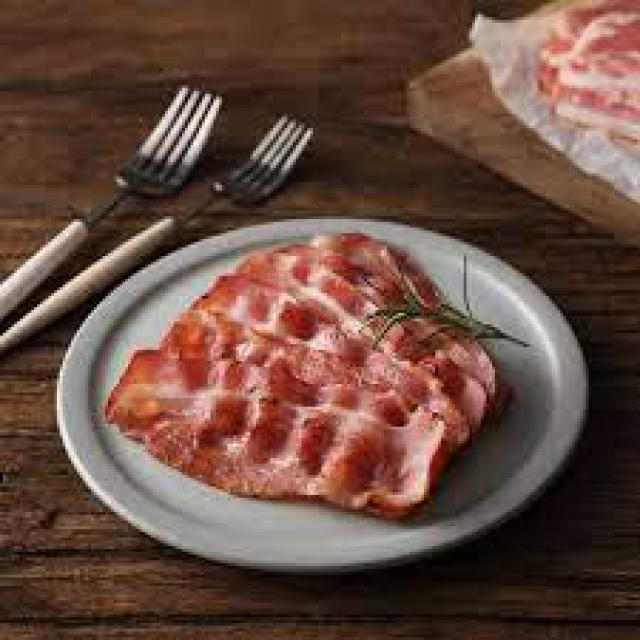bacon: (126, 254, 496, 513)
